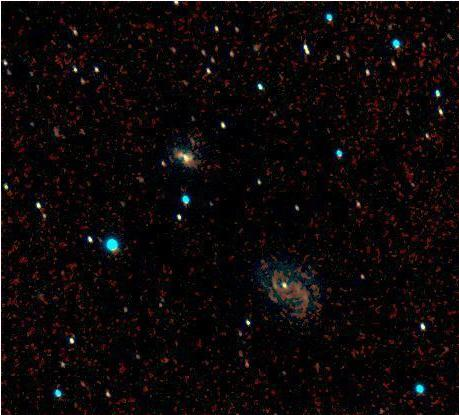star: (247, 247, 277, 277)
